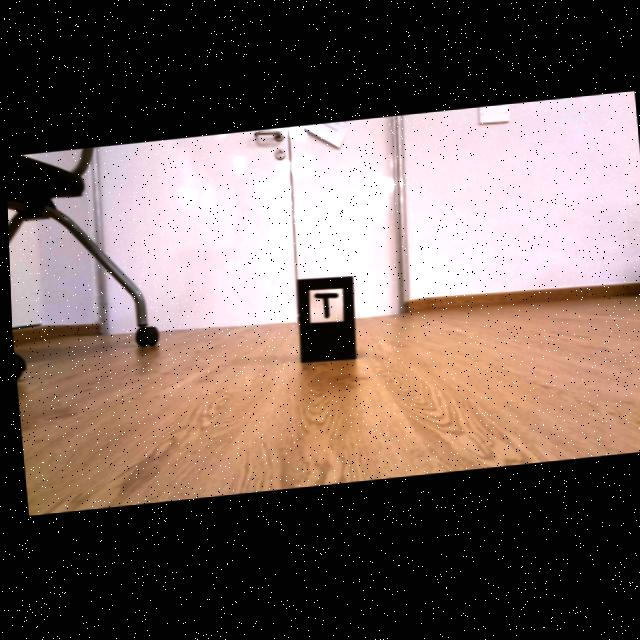T: (312, 297, 336, 322)
